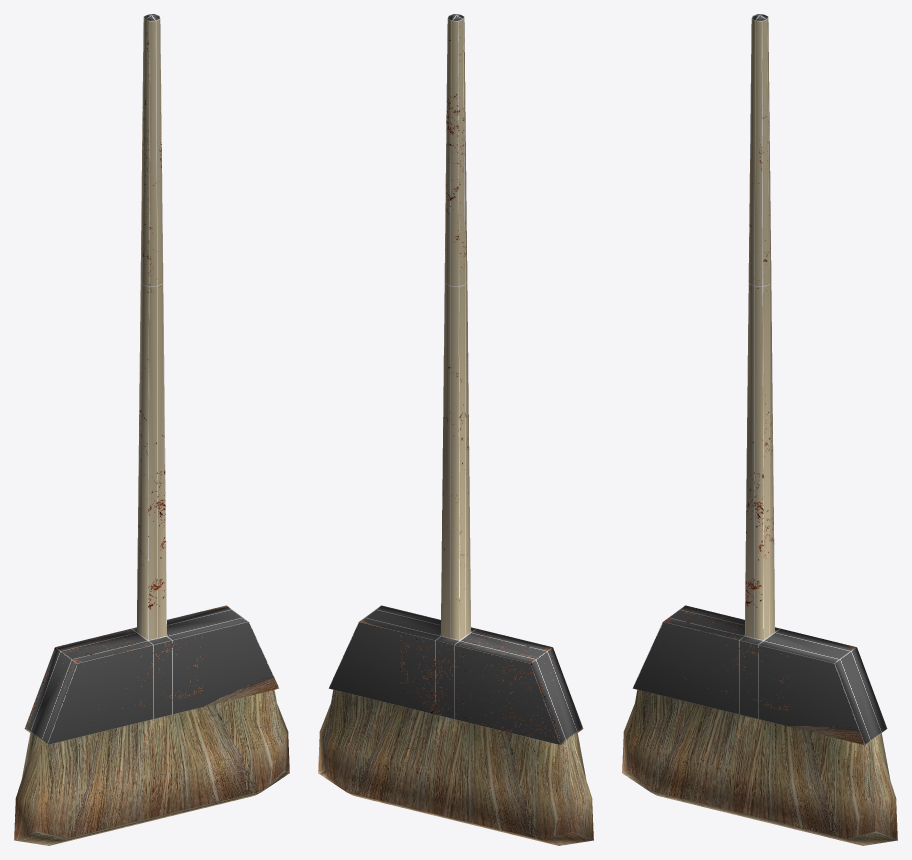
Rendered from VasouraRE1.fbx.
3 views of the same model, side by side, from view 1: azimuth 30°, elevation 25°; view 2: azimuth 150°, elevation 25°; view 3: azimuth 330°, elevation 25° (orthographic).
Parts seen in each view (by area): view 1: Vassoura; view 2: Vassoura; view 3: Vassoura.
Boxes of the visible parts, left/top/right/bottom form: Vassoura: left=14, top=14, right=289, bottom=845; Vassoura: left=318, top=14, right=593, bottom=845; Vassoura: left=622, top=14, right=897, bottom=845.
Bounding box in the file's own units: 0.4273 × 1.19 × 0.0653.
Materials: 1 (1 with a texture image).
